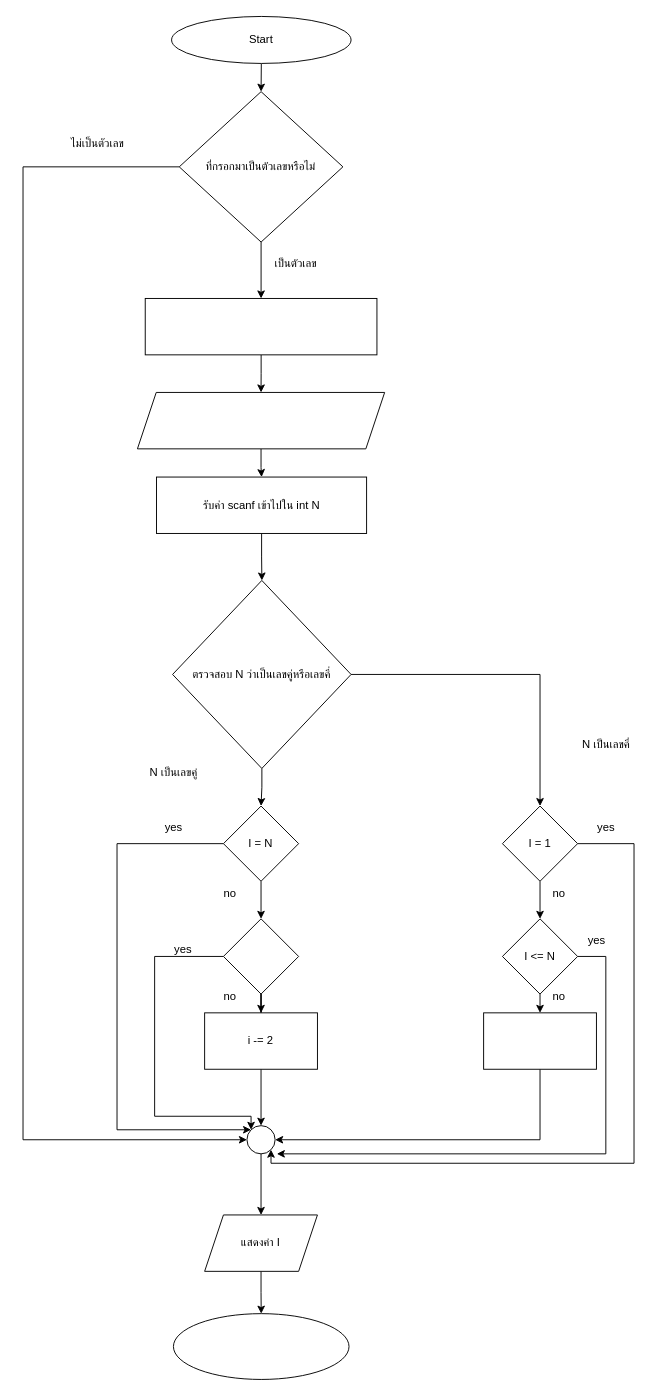
Image size: 660x1396. Some labels were removed from this diagram. Here are the shapes that lost their labels. From the top down, the centre of each, then its label:
point 260,326: ประกาศตัวแปร N
point 260,420: รับค่าตัวแปร N
point 260,956: I >= 0
point 539,1040: i += 2
point 260,1346: end
